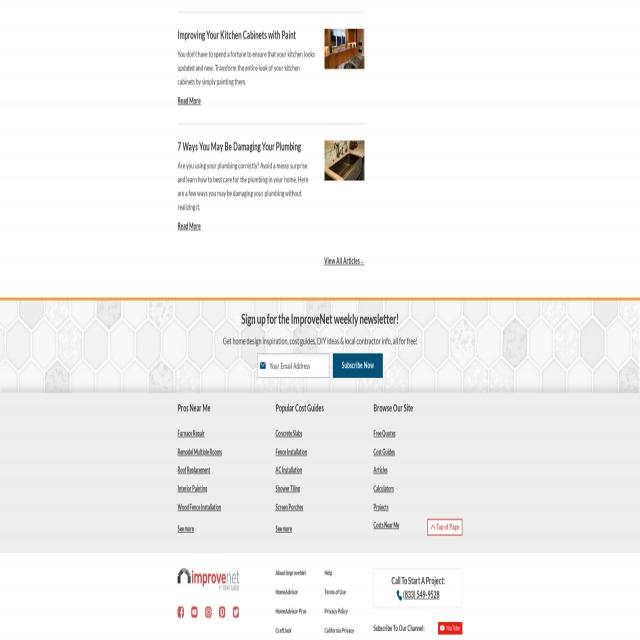button: (374, 569, 461, 607), (324, 28, 364, 70), (324, 140, 364, 181), (177, 568, 239, 590), (333, 354, 383, 378), (428, 520, 462, 535), (439, 622, 462, 635), (191, 606, 198, 618), (178, 606, 184, 618), (205, 606, 211, 618), (219, 606, 225, 618), (233, 606, 239, 618), (260, 362, 266, 369)
field: (257, 354, 330, 378)
